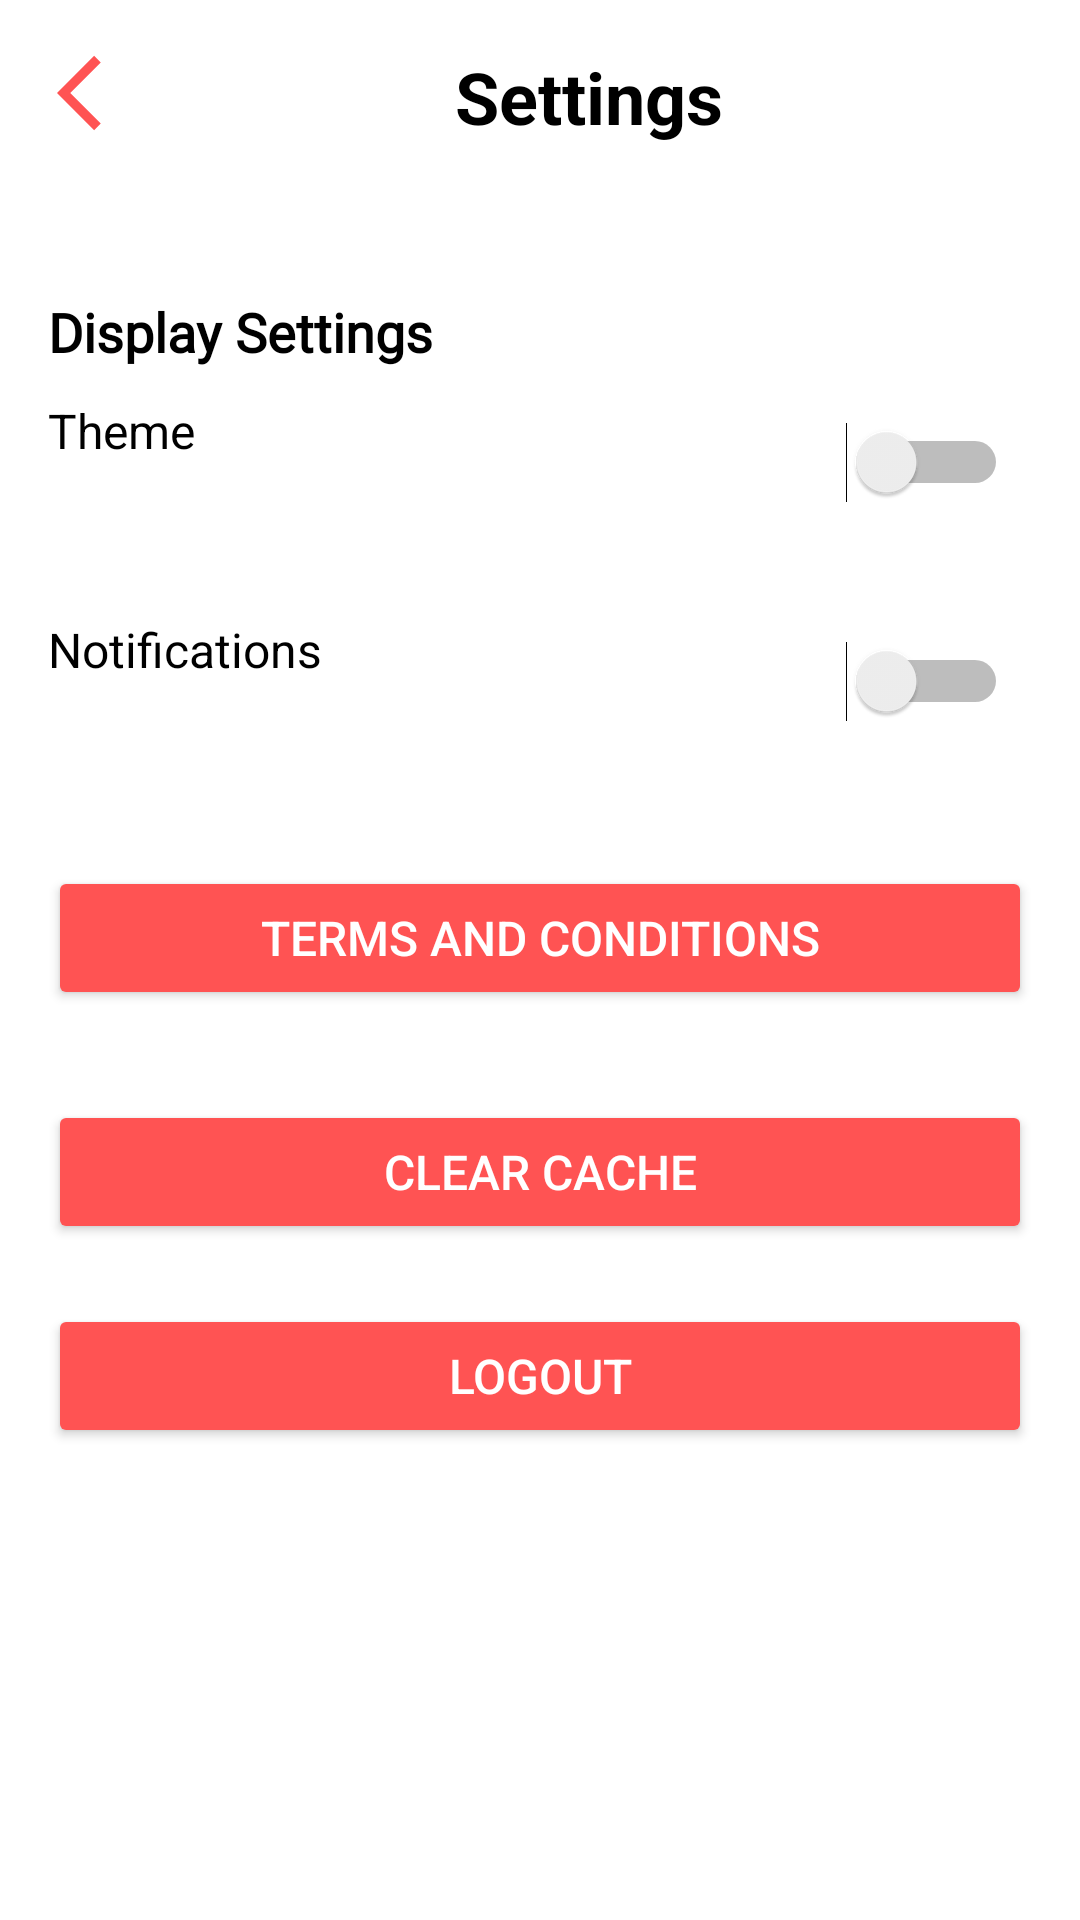

Icon bounding boxes for this 1080px x 1920px phone screenshot, format (x1, y1, x2, y2):
arrow back: (57, 56, 101, 130)
